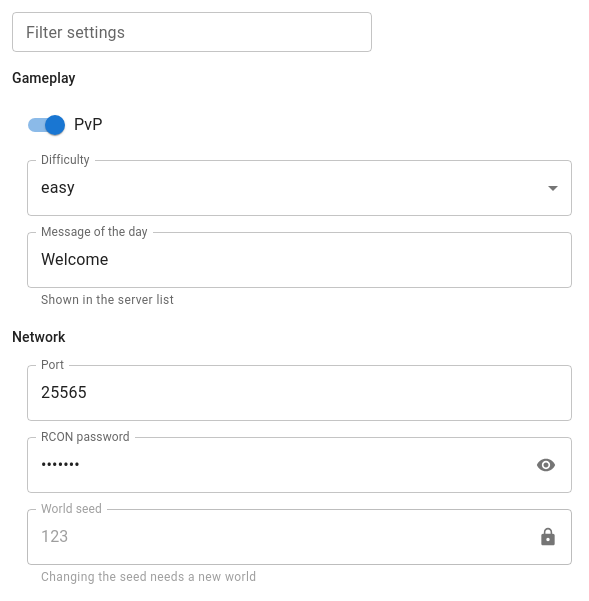
Scenario: ConfigForm › reveals a secret with the show icon
The image size is (589, 601).
Click the button named "Show RCON password".
click(546, 465)  # box [531, 450, 561, 480]
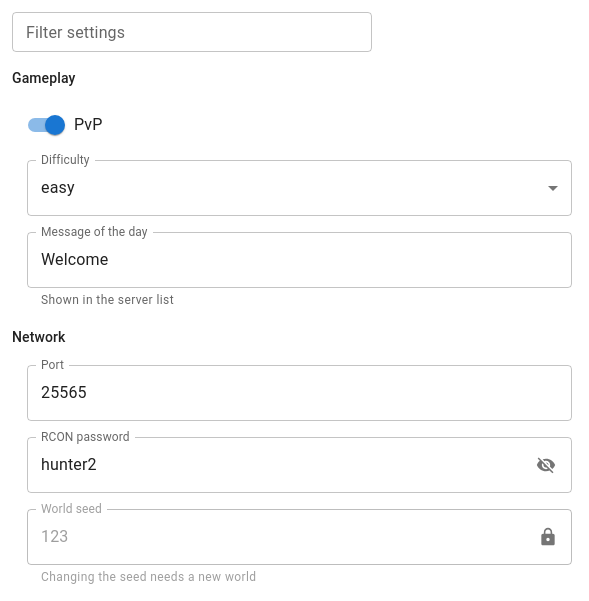
expect the field labelled "RCON password" shows its text: met, box [27, 437, 523, 493]
